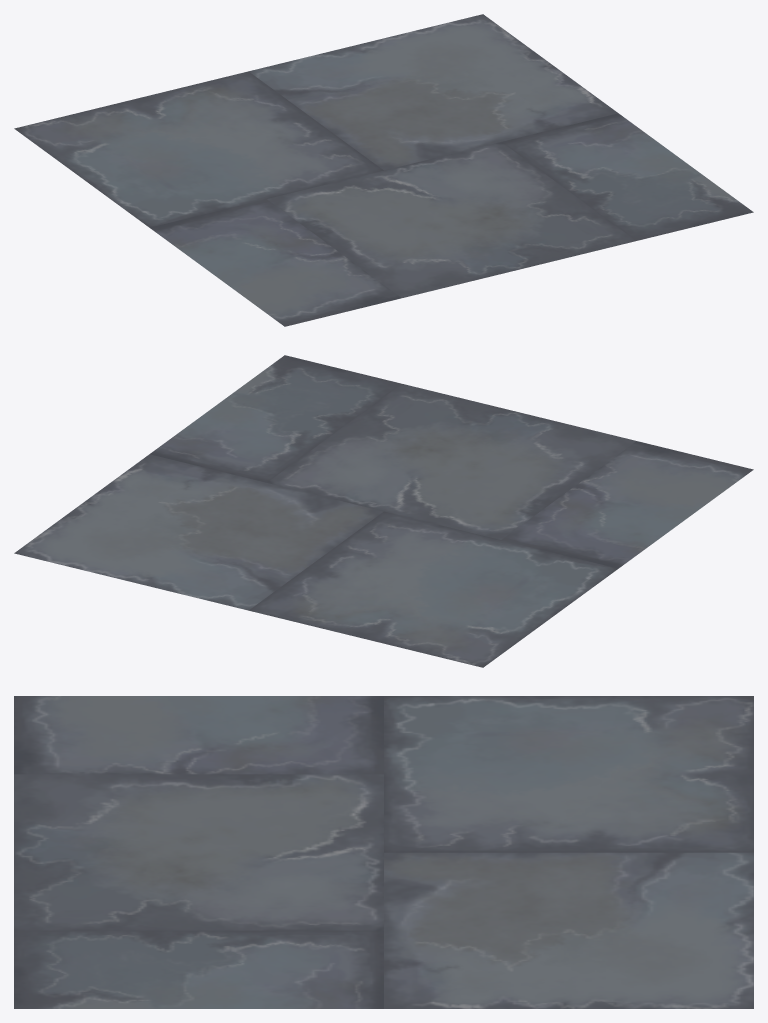
File: Castle Ground X Bright 2x2.fbx
3 renders of one model, top to bottom at view 1: azimuth 30°, elevation 25°; view 2: azimuth 150°, elevation 25°; view 3: azimuth 270°, elevation 25°, orthographic. The views are drawn at different scales.
Parts seen in each view (by area): view 1: Castle Ground X Bright 2x2; view 2: Castle Ground X Bright 2x2; view 3: Castle Ground X Bright 2x2.
Boxes of the visible parts, bbox=[...] form: Castle Ground X Bright 2x2: bbox=[14, 14, 753, 326]; Castle Ground X Bright 2x2: bbox=[14, 355, 753, 667]; Castle Ground X Bright 2x2: bbox=[14, 696, 753, 1008].
Bounding box in the file's own units: 1.5 × 8.05e-07 × 1.5.
